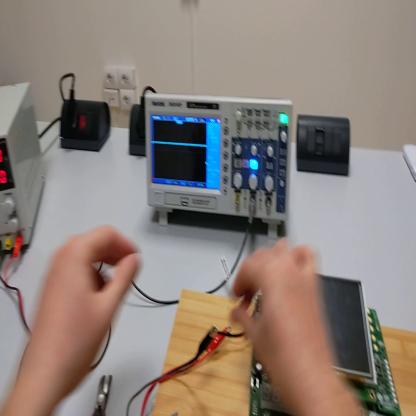hand: (30, 228, 141, 392), (229, 239, 338, 394)
low voltage board: (216, 271, 399, 416)
oscilloscope: (146, 91, 294, 234)
pliers: (94, 376, 113, 413)
power supply: (2, 84, 46, 252)
socket: (62, 94, 113, 155), (130, 103, 147, 157)
working area: (154, 288, 416, 415)
